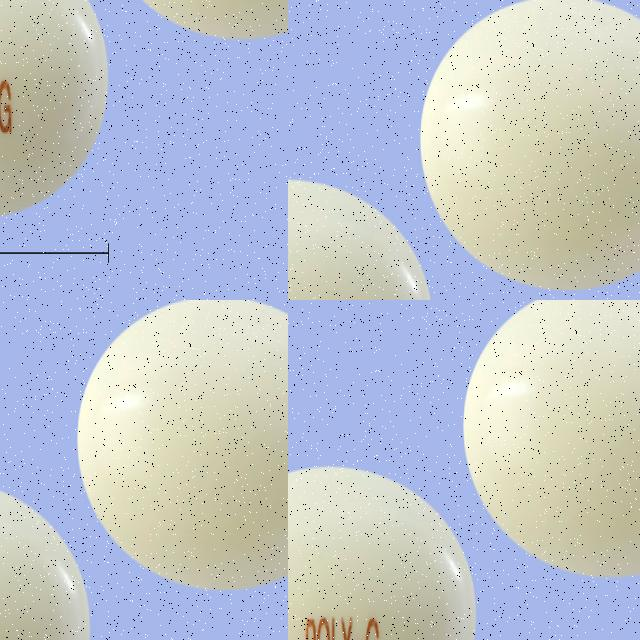Gyno-V Vaginal Soft Cap: (435, 24, 640, 300), (288, 132, 410, 300)
Poly G Vaginal Soft Cap: (463, 300, 640, 578), (288, 462, 476, 640)
Qsymia Cap: (0, 12, 171, 217)
